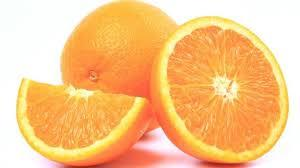orange: (152, 11, 295, 168), (13, 66, 168, 168), (52, 5, 175, 102)
